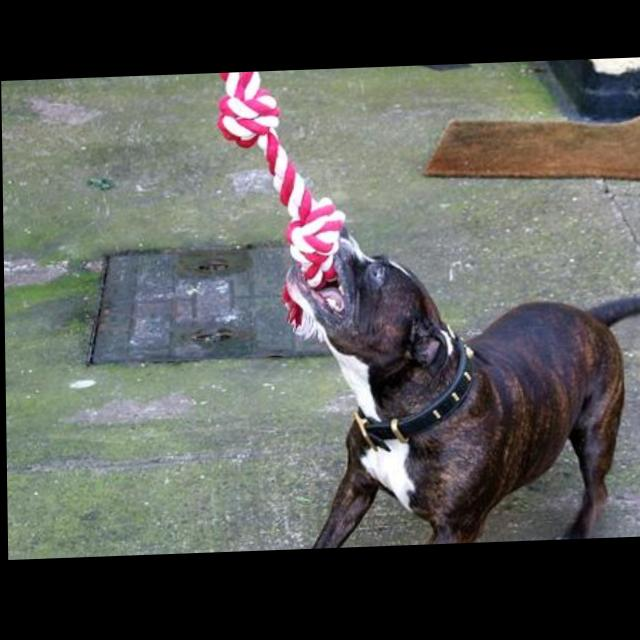staffford: (256, 217, 640, 553)
